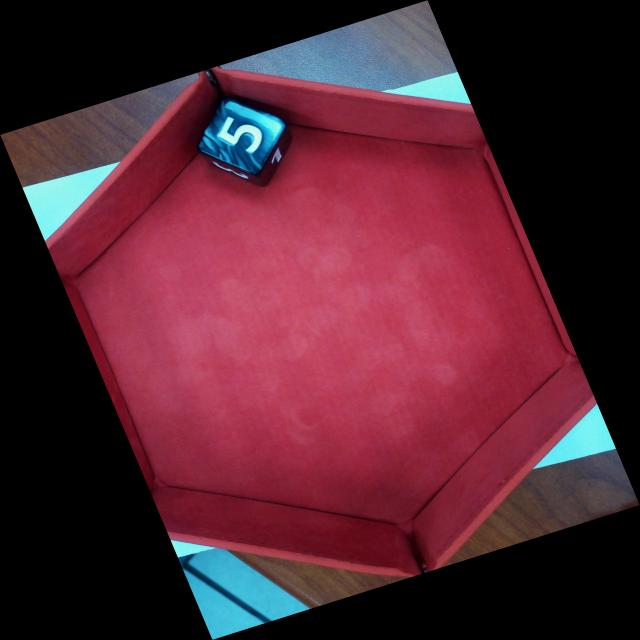dice: (200, 100, 292, 175)
